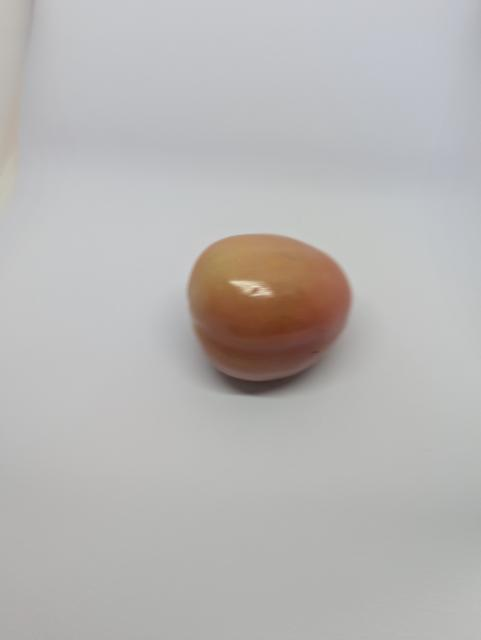turning: (185, 229, 363, 394)
